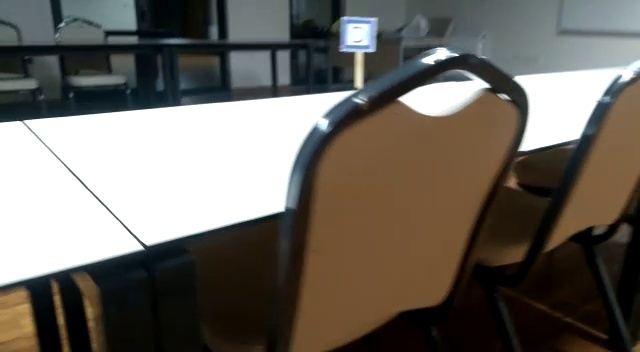durak: (340, 17, 377, 52)
